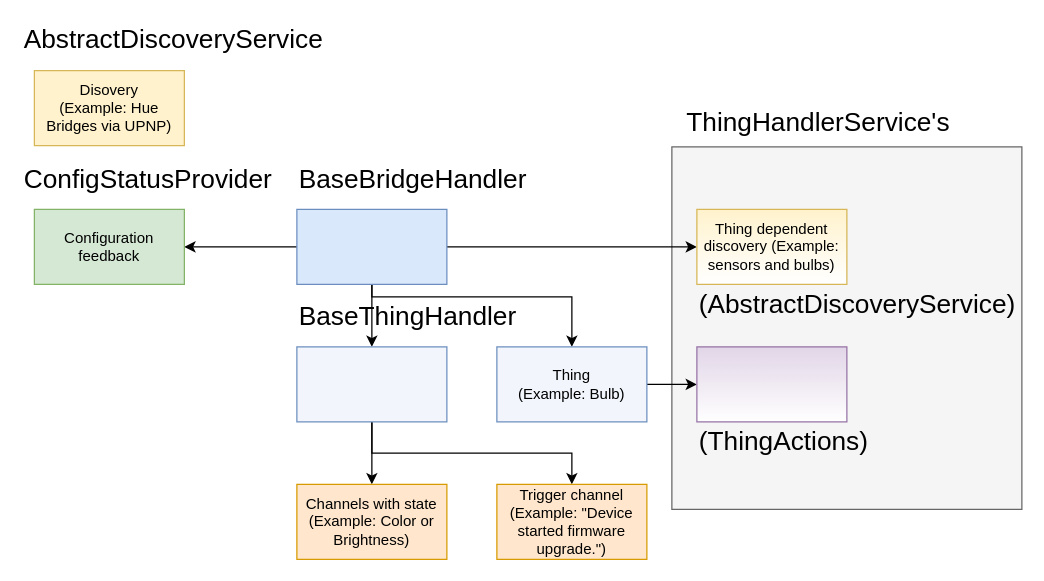
Some shapes in this 1044 by 581 pixel diagram are drawn without their labels. Each missing label, with the centre of its shape:
Bridge (Example: Hue Bridge): point 371,246
Thing (Example: Sensor): point 371,384
Thing action (Example: Unpair bulb): point 771,384
